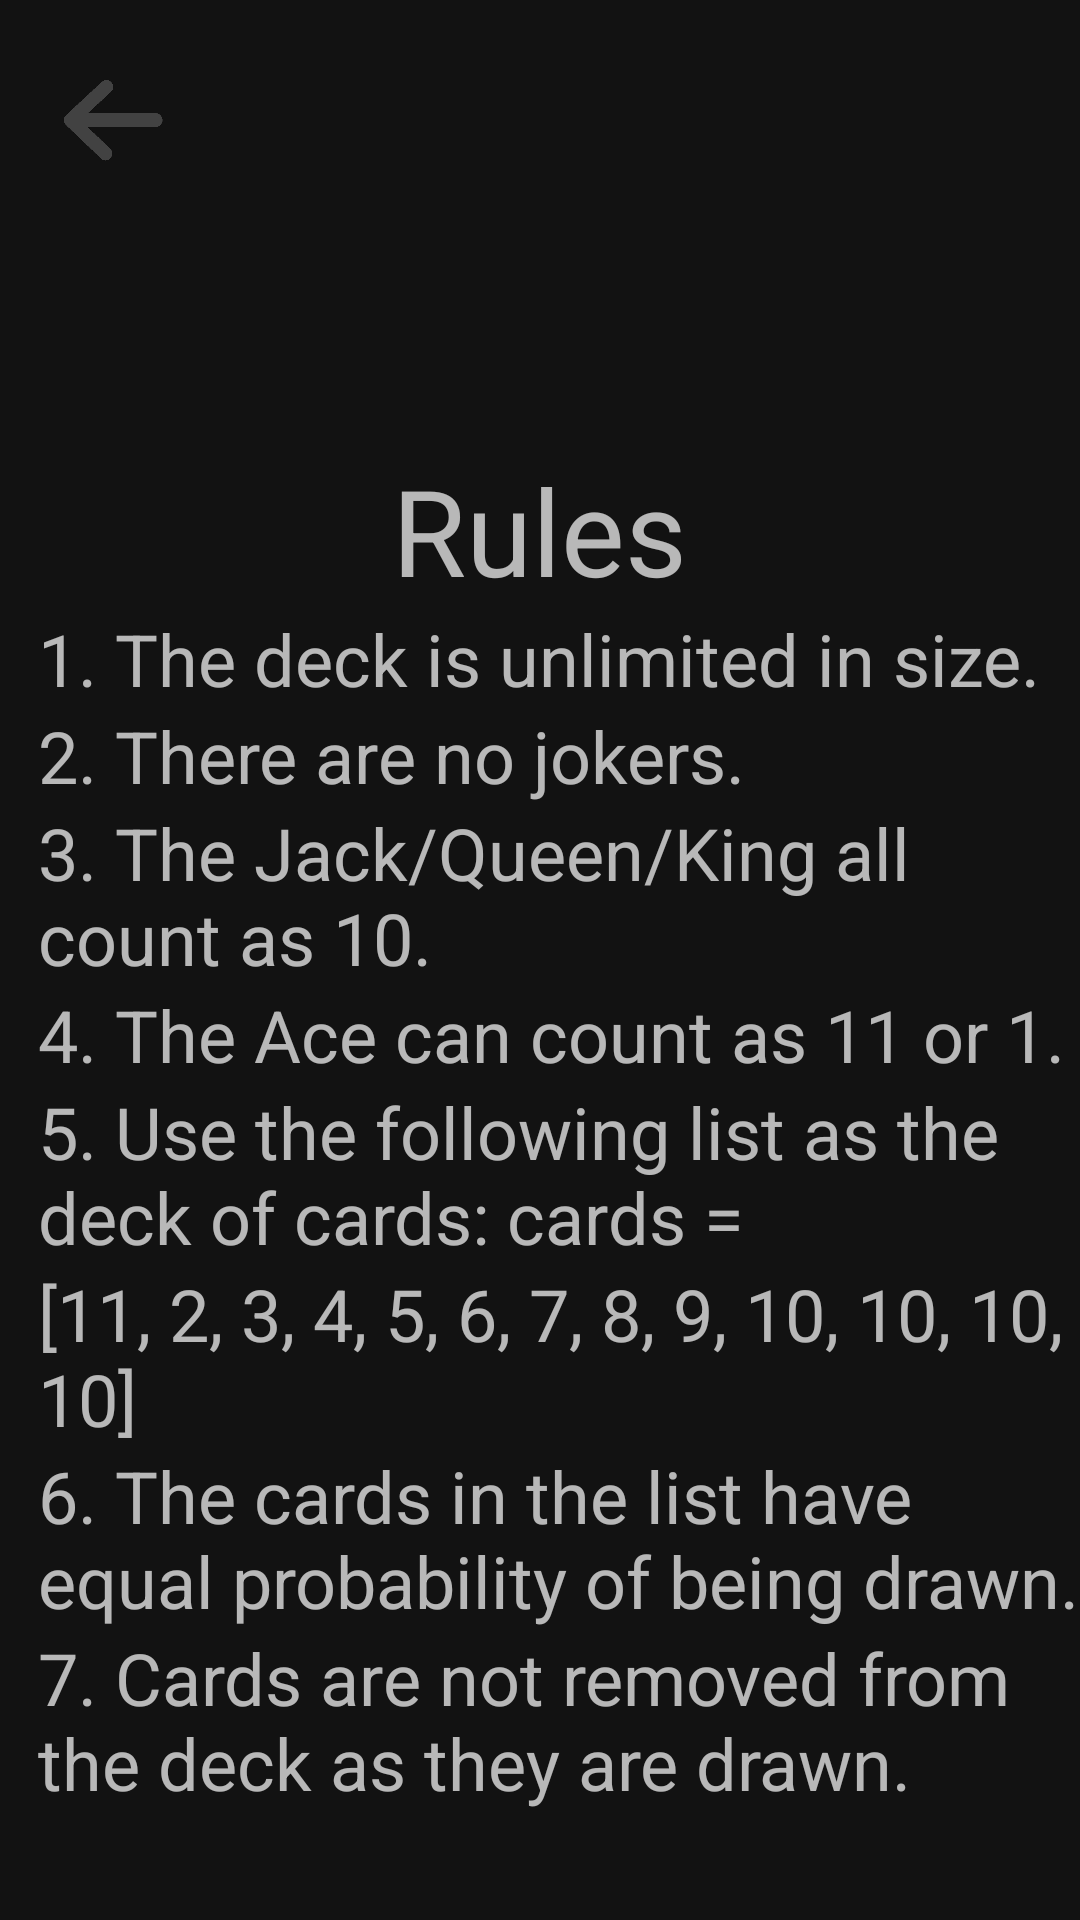

Icons on this 1080 x 1920 Android screen, each with its box as [x1, y1, x2, y2]:
back: [64, 80, 163, 160]
